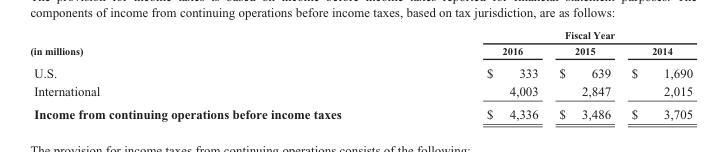table: (29, 29, 692, 121)
table column: (29, 29, 413, 121), (413, 29, 548, 121), (548, 29, 620, 121), (620, 29, 692, 121)
table column header: (29, 29, 692, 61)
table row: (29, 81, 692, 102), (29, 61, 692, 81), (29, 42, 692, 61), (29, 102, 692, 121), (29, 29, 692, 42)
table spanning cell: (29, 29, 413, 61), (413, 29, 692, 42)
